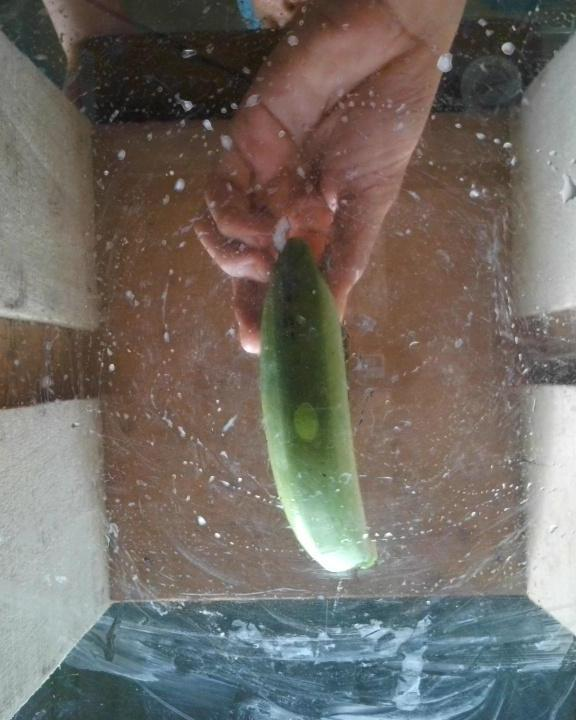CLASS B: (240, 235, 387, 580)
Class A: (280, 261, 303, 339)
